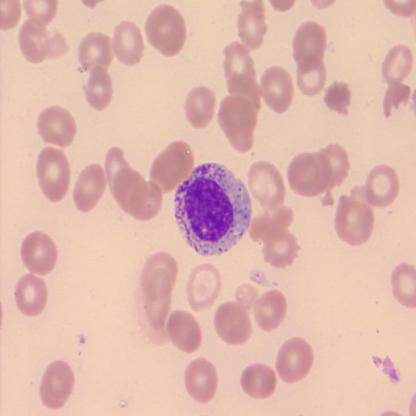Myelocyte: (176, 165, 250, 258)
